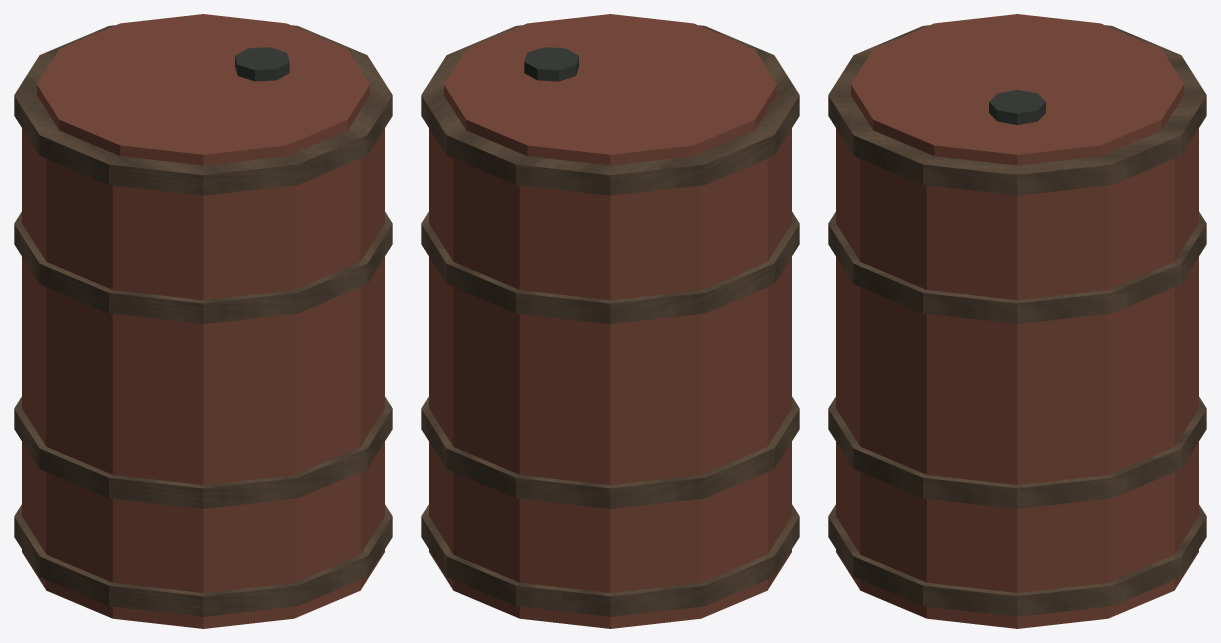
The model's file is barrel.glb.
The picture shows the model from 3 angles, left to right: view 1: azimuth 30°, elevation 25°; view 2: azimuth 150°, elevation 25°; view 3: azimuth 270°, elevation 25°; orthographic projection.
Parts seen in each view (by area): view 1: barrel__Oxide_red_drums, barrel__Dark_endgrain, barrel__Oxidized_dark_steel; view 2: barrel__Oxide_red_drums, barrel__Dark_endgrain, barrel__Oxidized_dark_steel; view 3: barrel__Oxide_red_drums, barrel__Dark_endgrain, barrel__Oxidized_dark_steel.
Boxes of the visible parts, x1,y1,x2,y2 form: barrel__Oxide_red_drums: (22,14,384,628); barrel__Dark_endgrain: (14,25,392,616); barrel__Oxidized_dark_steel: (235,47,289,81); barrel__Oxide_red_drums: (429,14,791,628); barrel__Dark_endgrain: (421,25,799,616); barrel__Oxidized_dark_steel: (524,47,578,81); barrel__Oxide_red_drums: (836,14,1198,628); barrel__Dark_endgrain: (828,25,1206,616); barrel__Oxidized_dark_steel: (989,90,1045,124).
Bounding box in the file's own units: 0.334 × 0.4665 × 0.334.
3 materials, 1 textured.
